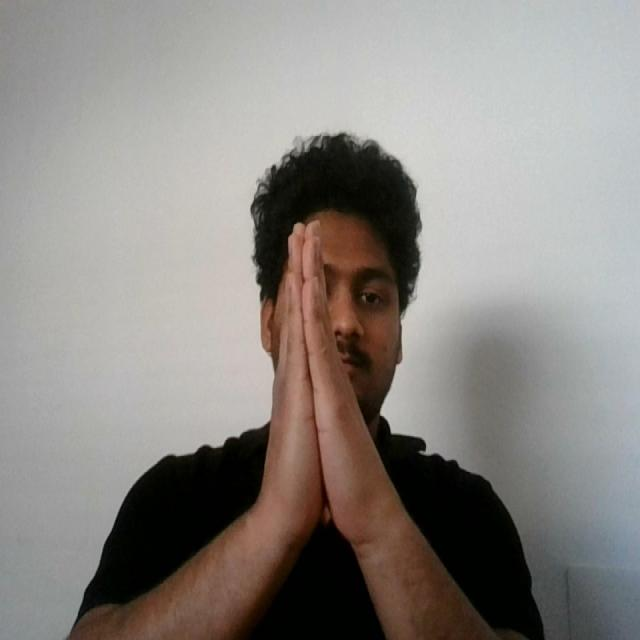Thanks: (247, 212, 403, 568)
